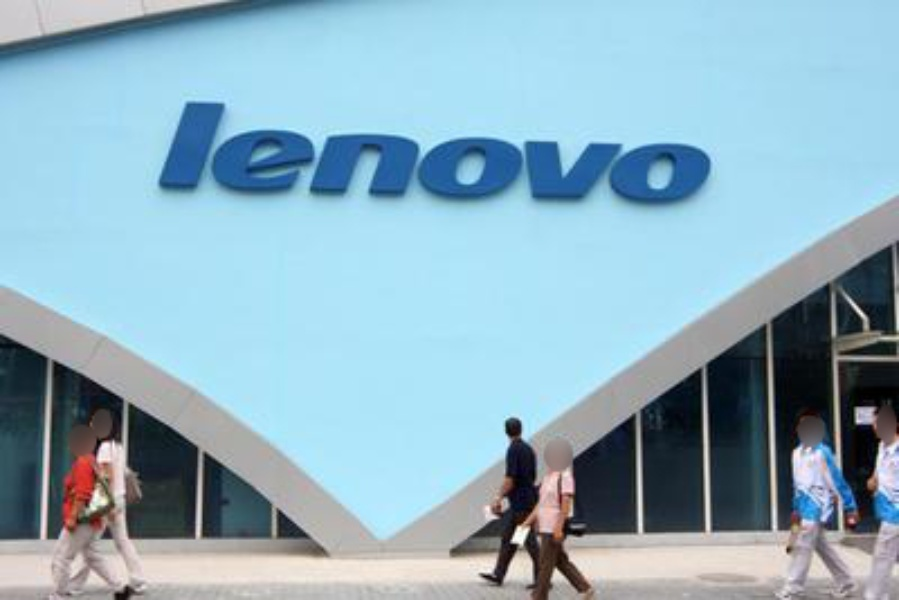text: (193, 99, 208, 207), (209, 99, 224, 207), (225, 99, 240, 207), (241, 99, 256, 207), (257, 99, 272, 207), (273, 99, 288, 207), (289, 99, 304, 207), (305, 99, 320, 207), (321, 99, 336, 207), (337, 99, 352, 207), (353, 99, 368, 207), (369, 99, 384, 207), (385, 99, 400, 207), (401, 99, 416, 207), (417, 99, 432, 207), (433, 99, 448, 207), (449, 99, 464, 207), (465, 99, 480, 207), (481, 99, 496, 207), (497, 99, 512, 207), (513, 99, 528, 207), (529, 99, 544, 207), (545, 99, 560, 207), (561, 99, 576, 207), (577, 99, 592, 207), (593, 99, 608, 207), (609, 99, 624, 207), (625, 99, 640, 207), (641, 99, 656, 207), (657, 99, 672, 207), (673, 99, 688, 207), (689, 99, 704, 207), (183, 99, 192, 207), (705, 99, 713, 207)
